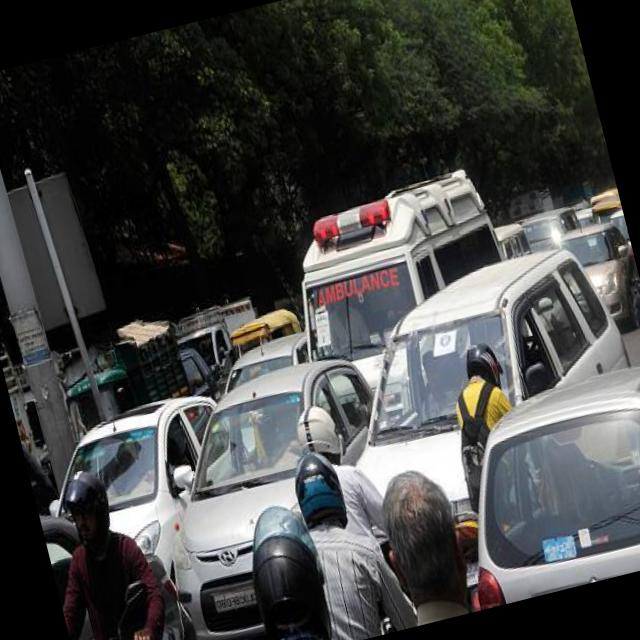ambulance: (276, 156, 503, 341)
